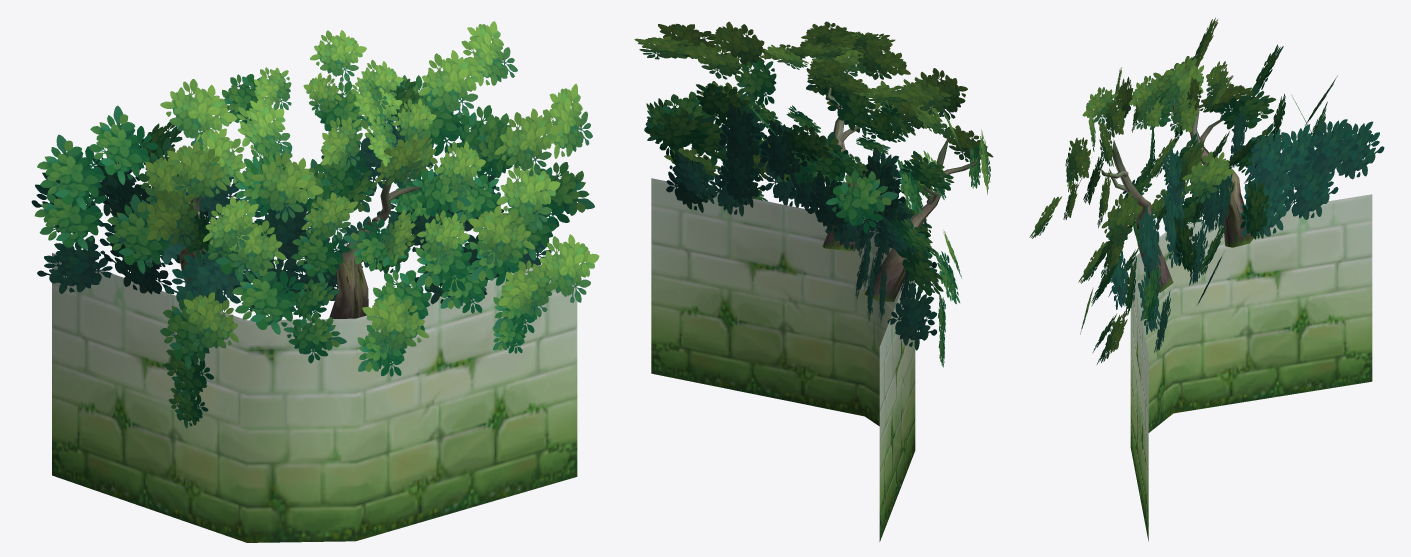
Rendered from xx_huatan3.FBX.
3 renders of one model, left to right at view 1: azimuth 30°, elevation 25°; view 2: azimuth 150°, elevation 25°; view 3: azimuth 270°, elevation 25°, orthographic. The views are drawn at different scales.
Visible parts, largest first — view 1: dj_huatan_03; view 2: dj_huatan_03; view 3: dj_huatan_03.
Boxes of the visible parts, x1,y1,x2,y2 form: dj_huatan_03: (31, 21, 599, 542); dj_huatan_03: (634, 21, 993, 541); dj_huatan_03: (1029, 17, 1384, 541).
Size of the model in its own units: 8.66 by 8.25 by 7.06.
